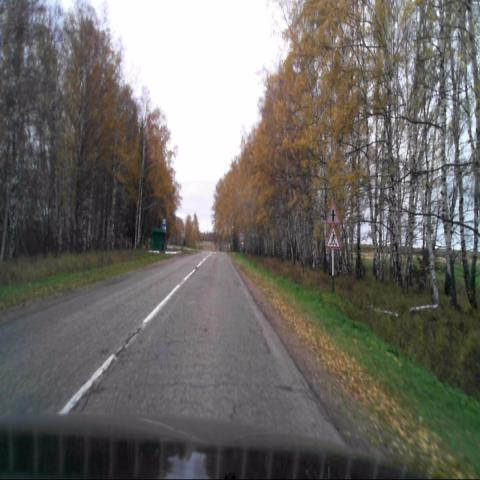1_22: (326, 224, 340, 250)
2_3: (326, 201, 340, 226)
